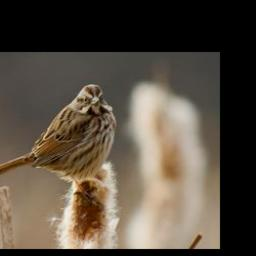Sparrow: (0, 83, 118, 209)
